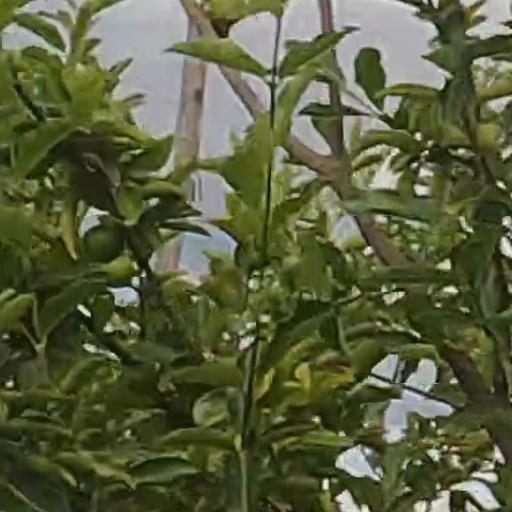acerola: (85, 227, 121, 262), (109, 259, 133, 284)
